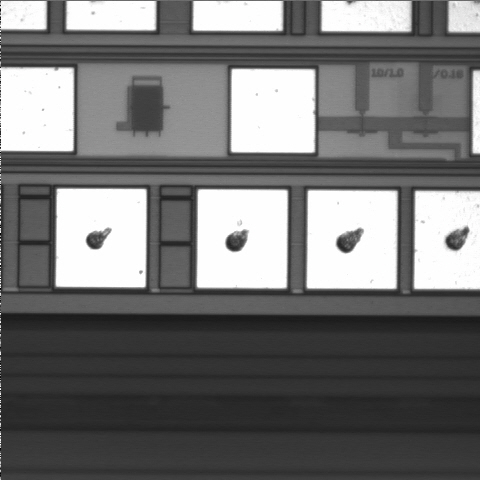pad: (197, 189, 288, 288), (307, 190, 397, 289), (56, 189, 146, 287), (231, 69, 315, 153)
